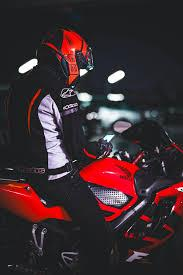Helmet: (39, 23, 93, 85)
